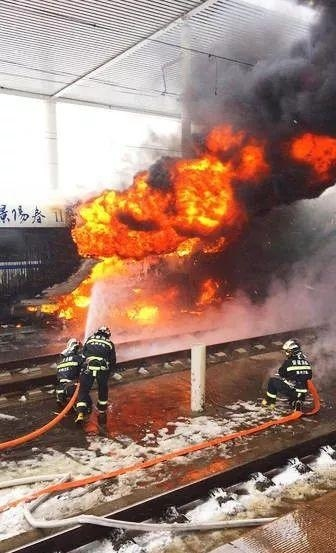fire: (51, 124, 323, 328)
